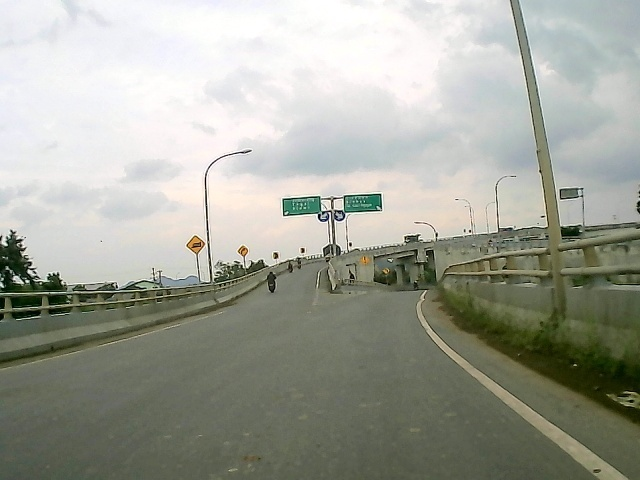Hati-hati: (360, 253, 371, 266)
Jalanan menanjak: (184, 233, 209, 255)
Tikungan ke kanan: (236, 245, 251, 258)
